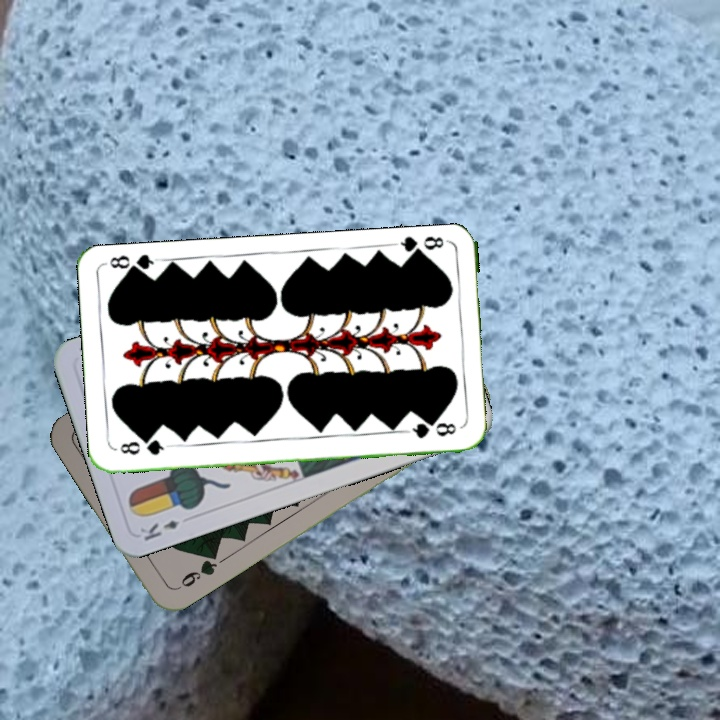EK: (136, 516, 182, 544)
G8: (391, 232, 450, 261), (116, 435, 172, 458)
G9: (171, 549, 221, 593)
